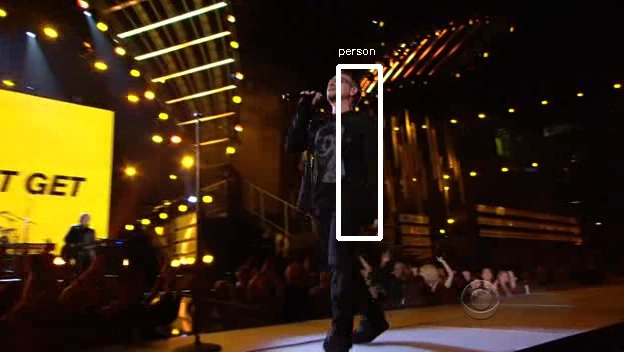person: (297, 70, 371, 233), (294, 70, 368, 233), (300, 70, 374, 233), (297, 67, 371, 230), (297, 73, 371, 236)
target_negative: (395, 81, 580, 322), (16, 173, 273, 285), (370, 257, 580, 295), (614, 188, 622, 349), (469, 340, 586, 351), (551, 227, 598, 249)
